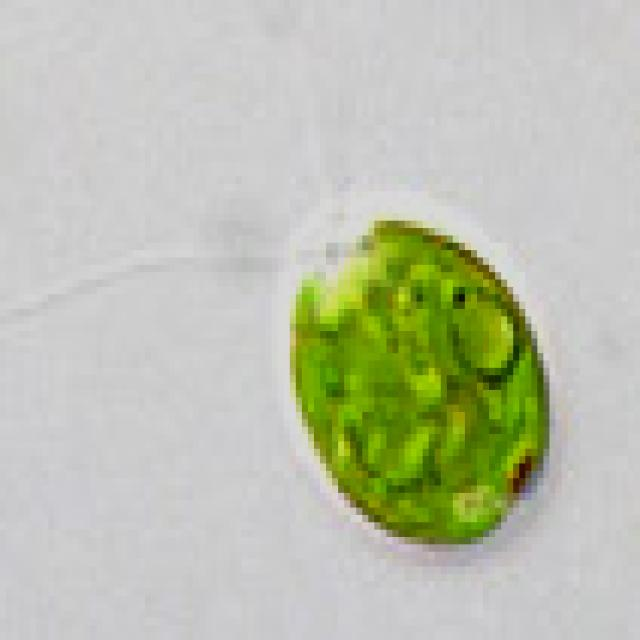Green Algae: (218, 198, 550, 552)
